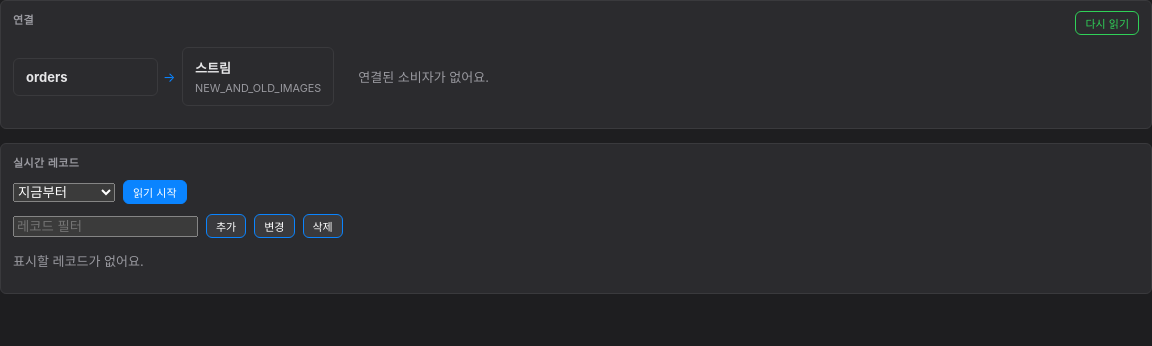
Test: 실시간 레코드 › 지금부터를 기본으로 읽고, 24시간 전부터를 고르면 많이 읽을 수 있다고 안내한다
Expected: the text "많은 레코드를 읽을 수 있어요" is not shown
Select "24시간 전부터" in the dropdown named "시작 위치" at {"x": 64, "y": 192}, box [13,182,115,202]
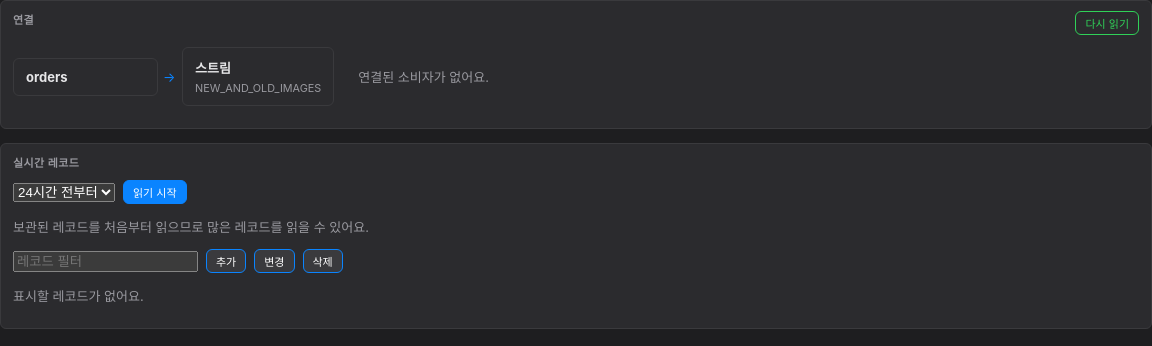
Now the text "보관된 레코드를 처음부터 읽으므로 많은 레코드를 읽을 수 있어요." is shown, box [13,219,369,235]
Click the button "읽기 시작" at {"x": 155, "y": 192}, box [123,180,187,204]
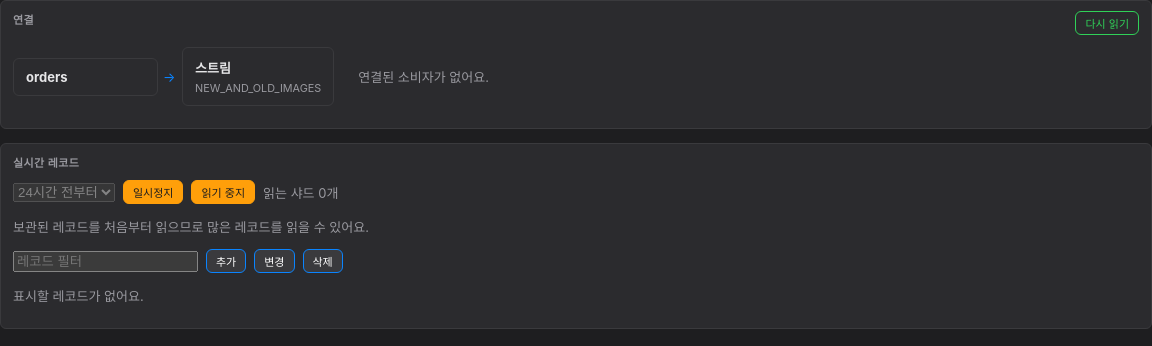
Now the dropdown named "시작 위치" is disabled, box [13,182,115,202]
